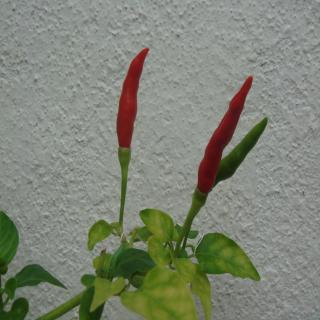Cabai Merah: (197, 75, 255, 195), (117, 47, 151, 150)
